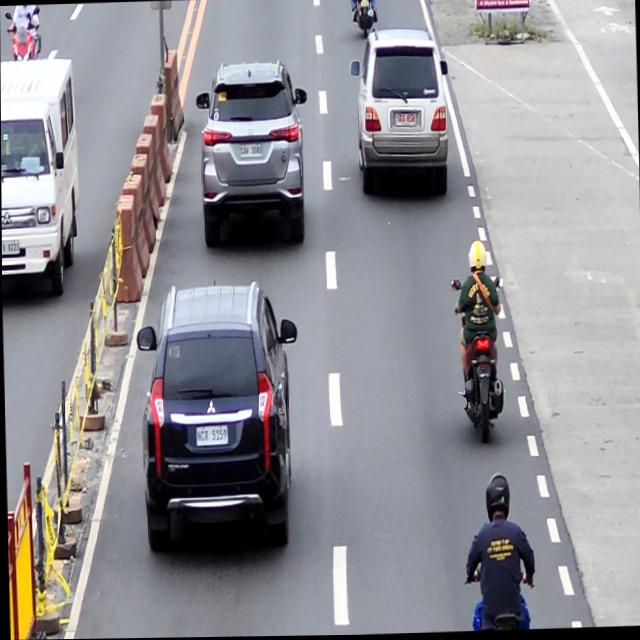Car: (134, 287, 300, 550), (195, 62, 308, 247), (349, 27, 449, 205)
License-Plate: (194, 426, 228, 448), (238, 144, 263, 157), (395, 113, 416, 128)
Motorcycle: (452, 277, 507, 445)
